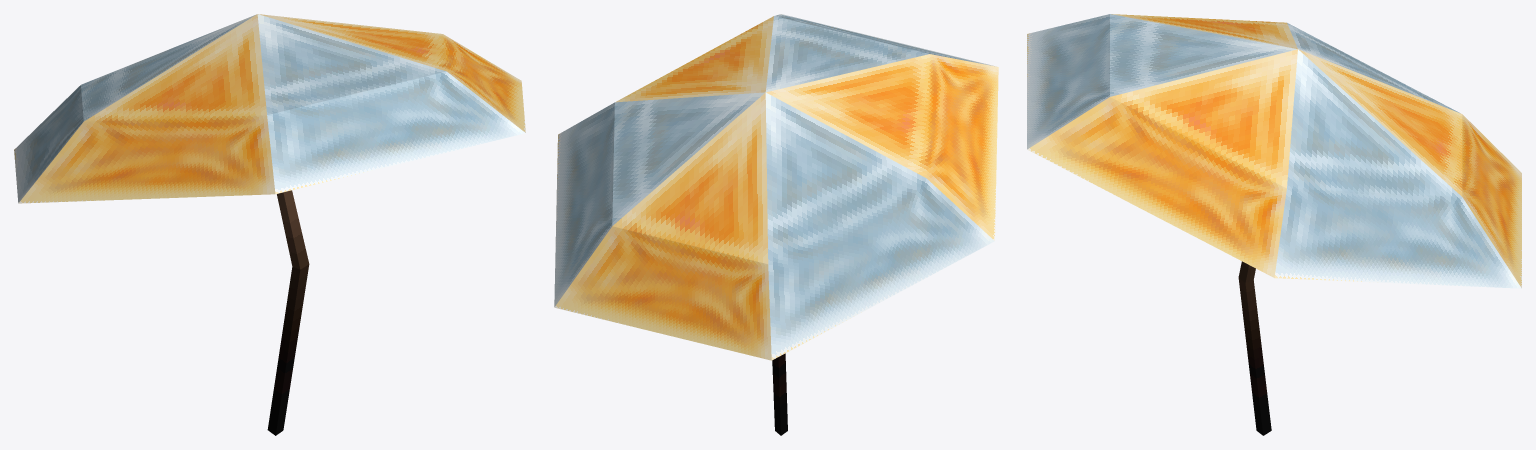
3 views of the same model, side by side, from view 1: azimuth 30°, elevation 25°; view 2: azimuth 150°, elevation 25°; view 3: azimuth 270°, elevation 25° (orthographic). The views are drawn at different scales.
Visible parts, largest first — view 1: prim200-parasol; view 2: prim200-parasol; view 3: prim200-parasol.
Boxes of the visible parts, x1,y1,x2,y2 form: prim200-parasol: (14, 14, 525, 435); prim200-parasol: (554, 14, 998, 435); prim200-parasol: (1027, 14, 1521, 435).
Bounding box in the file's own units: 398 × 306 × 358.
Materials: 2 (2 with a texture image).
